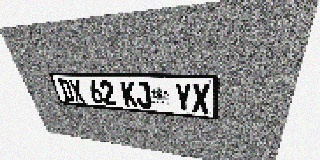2: (99, 80, 117, 105)
6: (87, 80, 105, 104)
D: (57, 79, 75, 102)
J: (134, 81, 152, 108)
K: (120, 81, 138, 107)
X: (192, 83, 210, 113), (68, 79, 85, 103)
Y: (174, 83, 192, 112)
